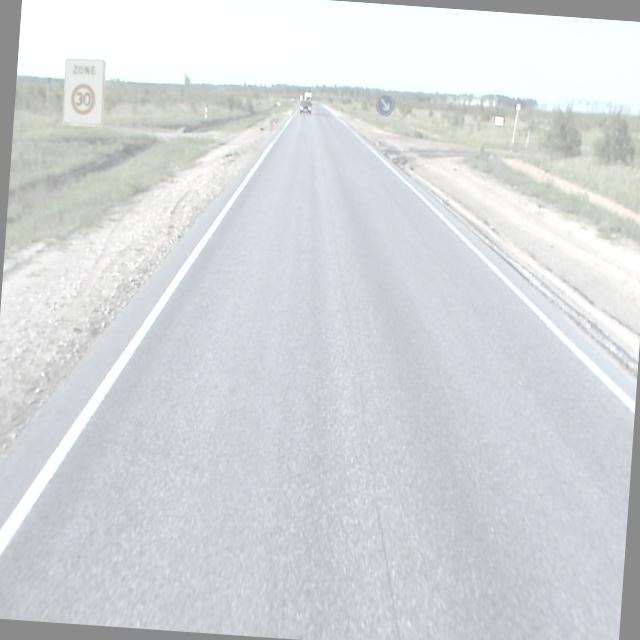road: (0, 103, 636, 640)
